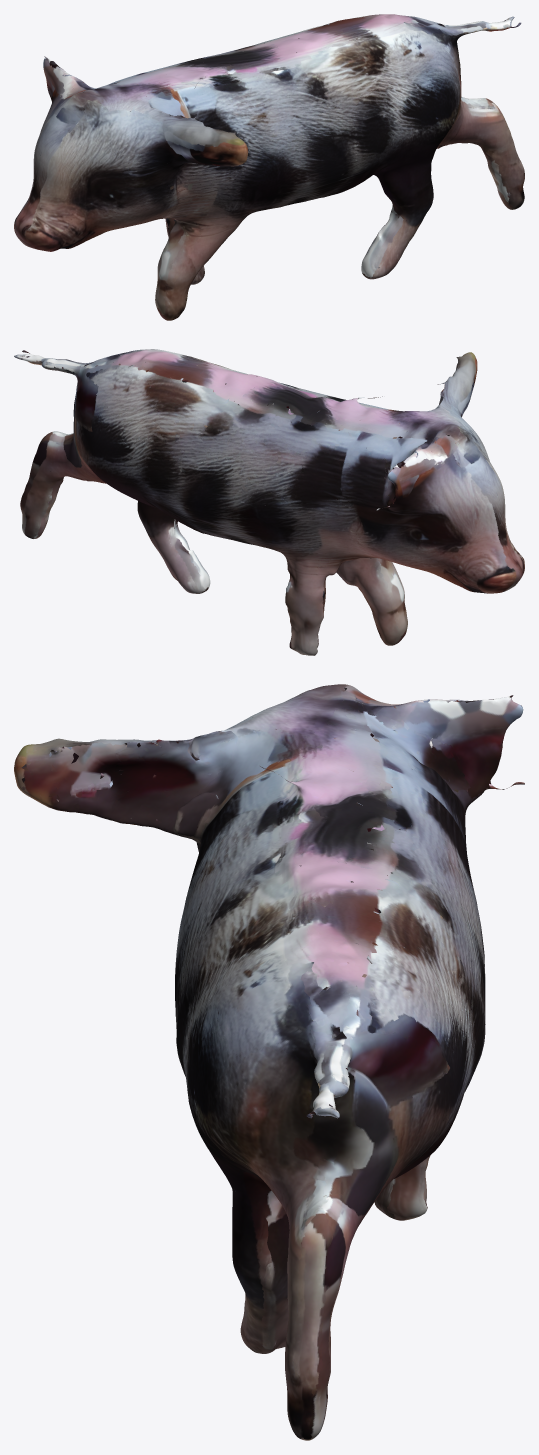
Rendered from bebe.glb.
The picture shows the model from 3 angles, top to bottom: view 1: azimuth 30°, elevation 25°; view 2: azimuth 150°, elevation 25°; view 3: azimuth 270°, elevation 25°; orthographic projection. The views are drawn at different scales.
Parts seen in each view (by area): view 1: mesh; view 2: mesh; view 3: mesh.
Boxes of the visible parts, left/top/right/bottom form: mesh: left=14, top=14, right=524, bottom=320; mesh: left=14, top=349, right=524, bottom=655; mesh: left=14, top=684, right=524, bottom=1440.
Bounding box in the file's own units: 1.89 × 0.8619 × 0.9298.
Materials: 1 (1 with a texture image).
